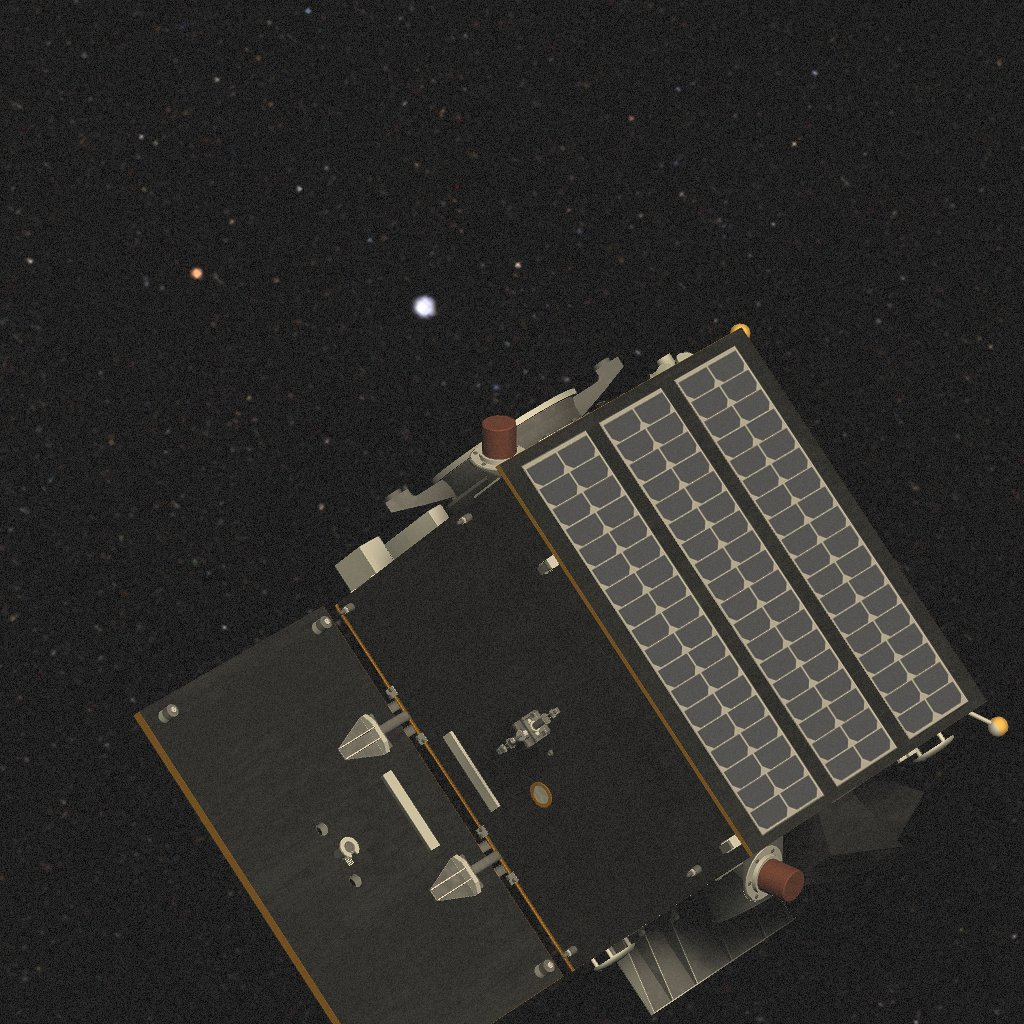proba_2: (134, 324, 1008, 1024)
